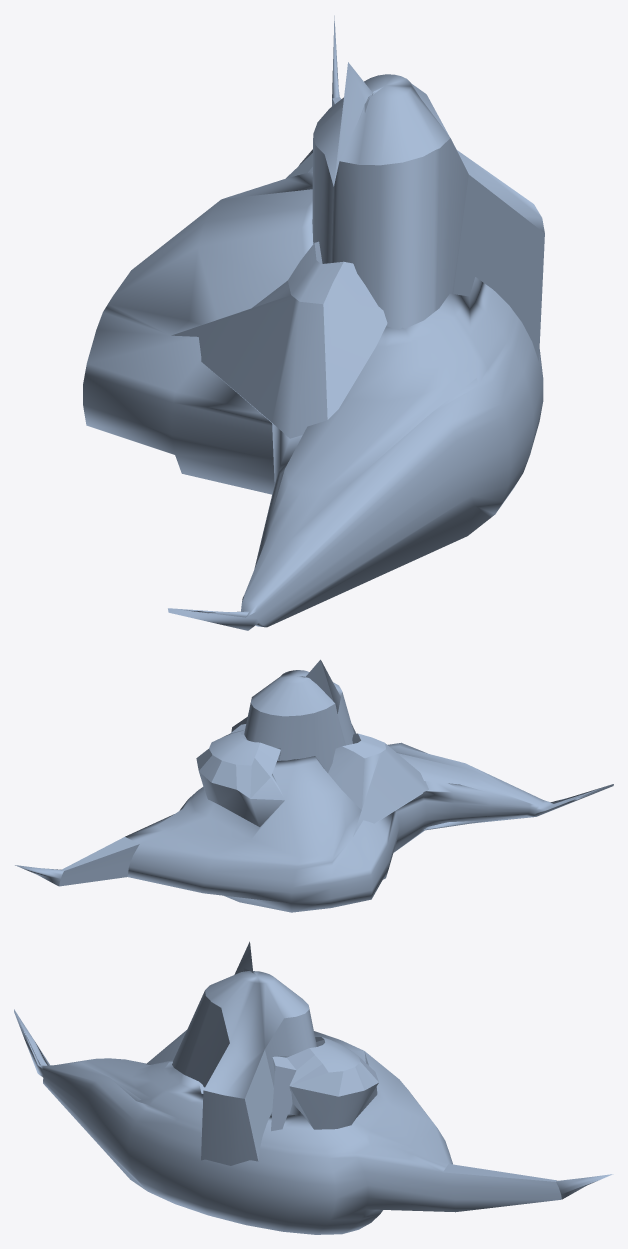
File: CLOUD6.fbx
3 views of the same model, one above another, from view 1: azimuth 30°, elevation 25°; view 2: azimuth 150°, elevation 25°; view 3: azimuth 270°, elevation 25° (orthographic). The views are drawn at different scales.
Visible parts, largest first — view 1: pSphere13; view 2: pSphere13; view 3: pSphere13.
Boxes of the visible parts, x1=… form: pSphere13: x1=83, y1=15, x2=544, y2=630; pSphere13: x1=15, y1=659, x2=613, y2=912; pSphere13: x1=14, y1=941, x2=613, y2=1234.
Size of the model in its own units: 10.5 by 6.34 by 13.75.
